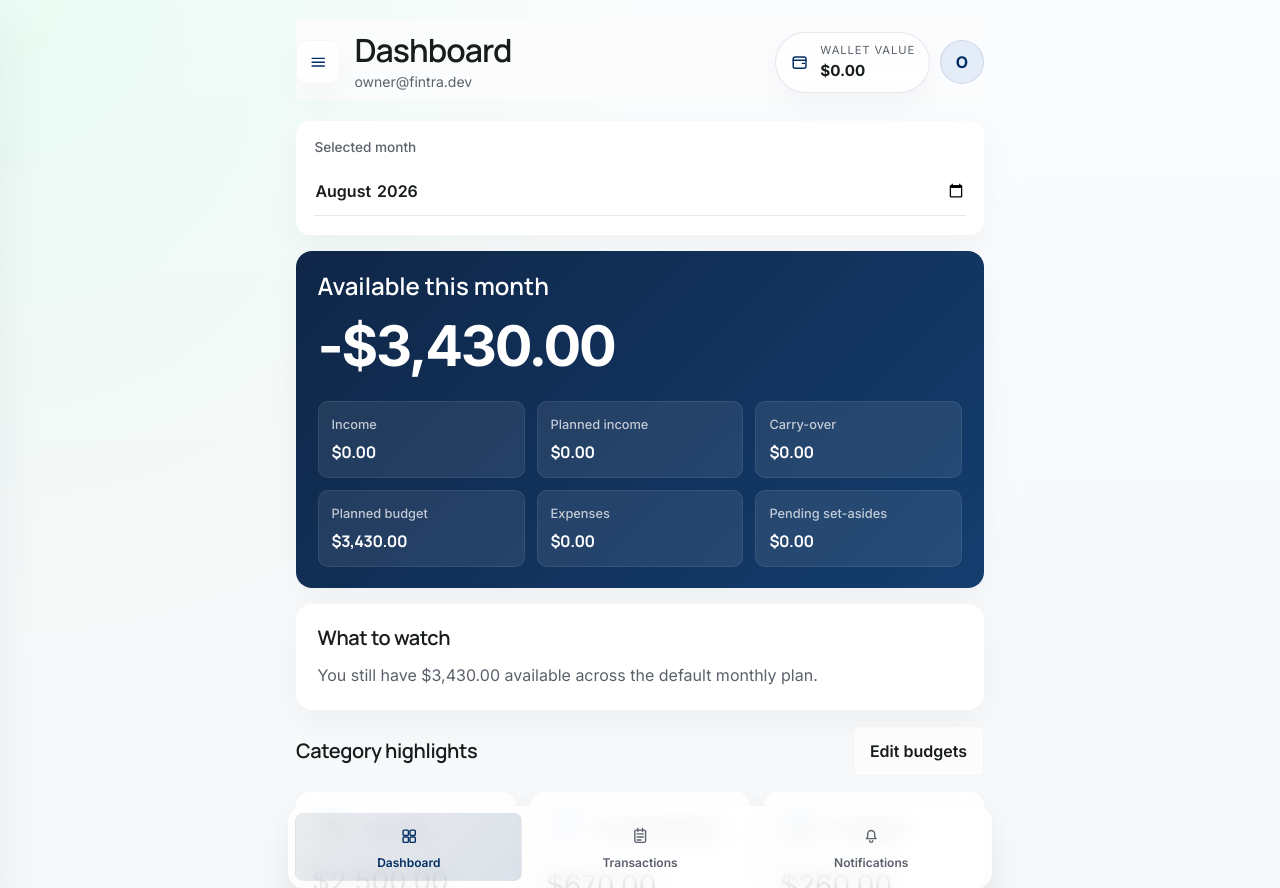
Test: DashboardPage › opens month-scoped transactions when a category highlight is clicked
Replace the text in the field labelled "Selected month" with "2026-03" at (640, 190), box x1=314 y1=164 x2=966 y2=216
(page scrolled)
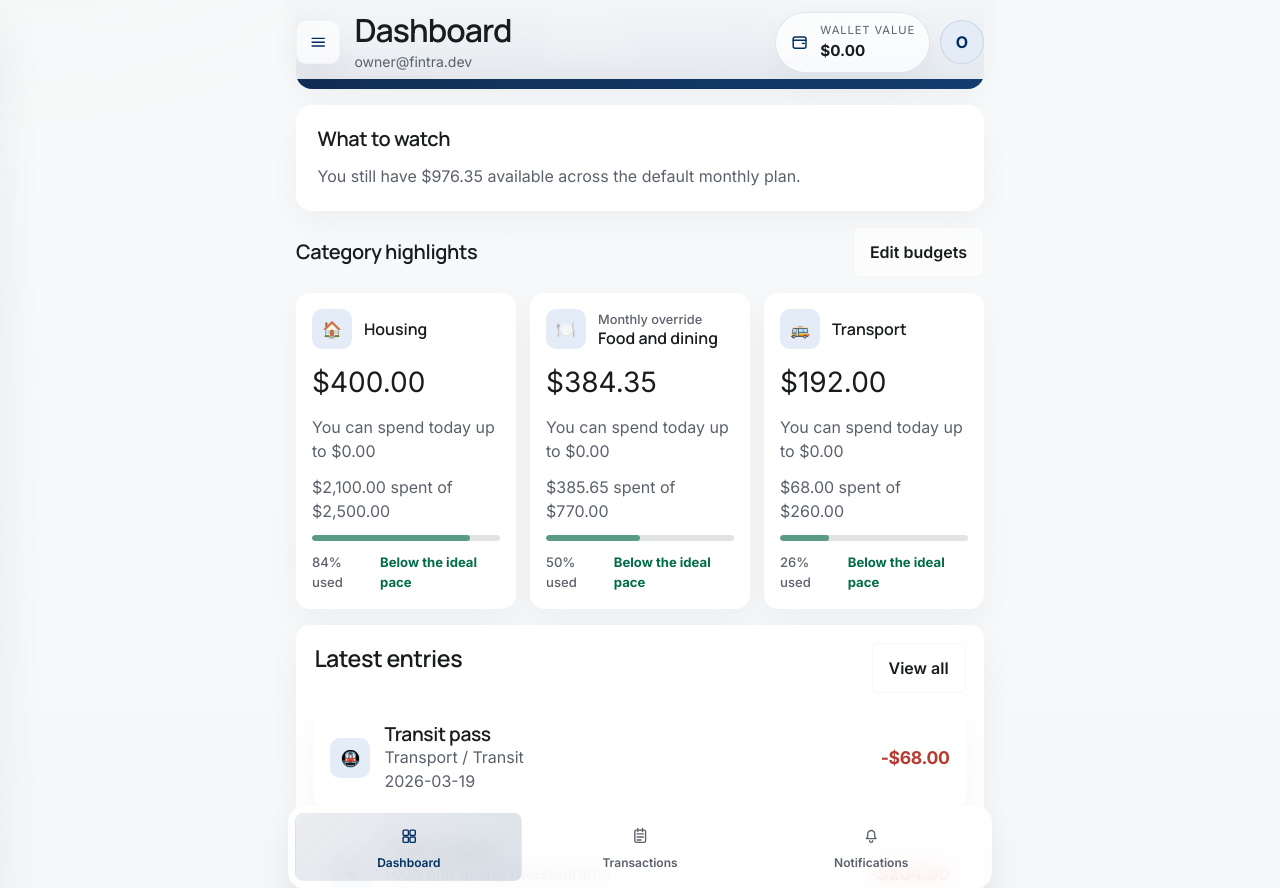
Click the button "Housing" at (406, 451), box x1=296 y1=293 x2=516 y2=609
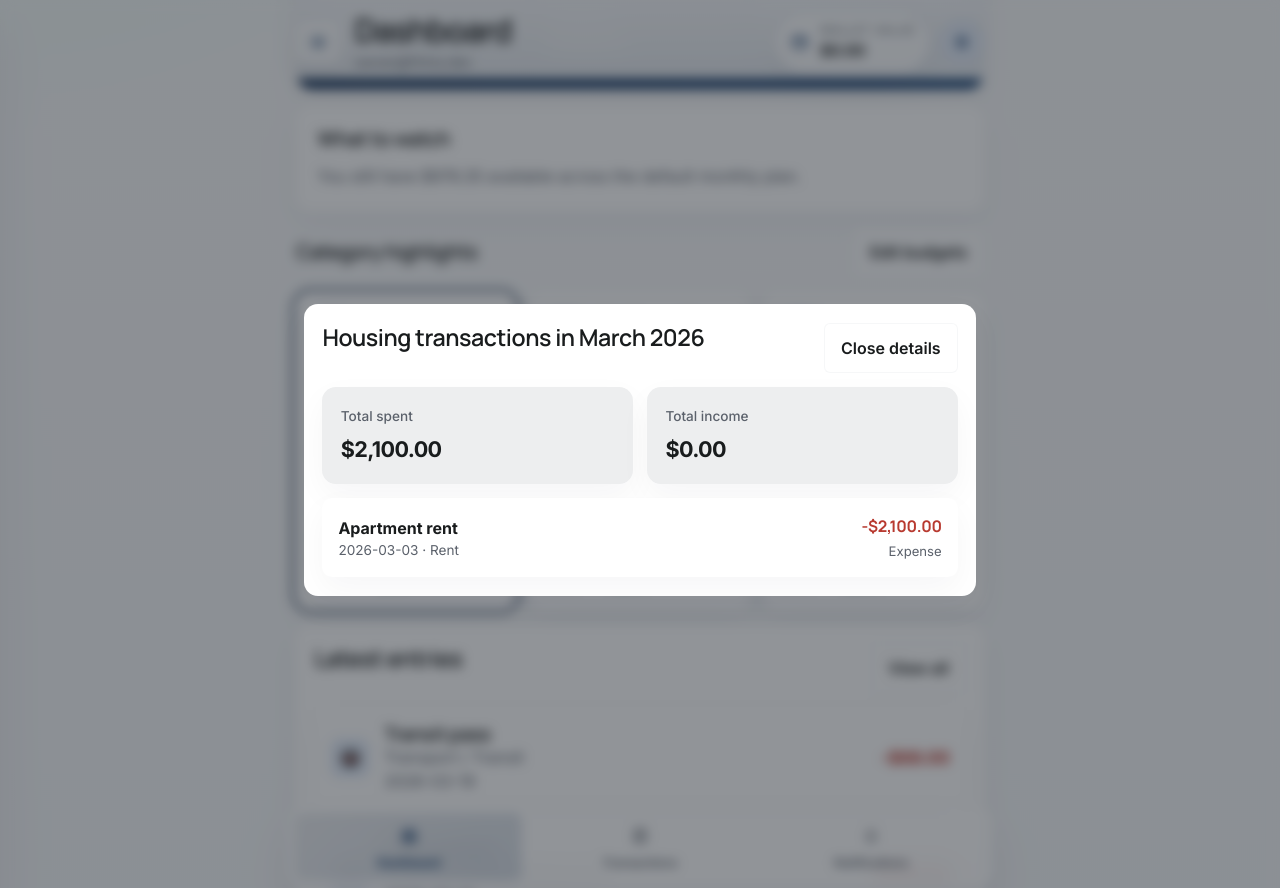
Check: the heading "Housing transactions in March 2026" is shown, box x1=322 y1=324 x2=704 y2=351
Check: the text "Apartment rent" is shown, box x1=338 y1=518 x2=458 y2=538
Check: the text "Total spent" is shown, box x1=341 y1=408 x2=413 y2=424
Click the button "Close details" at (891, 348), box x1=824 y1=323 x2=958 y2=373
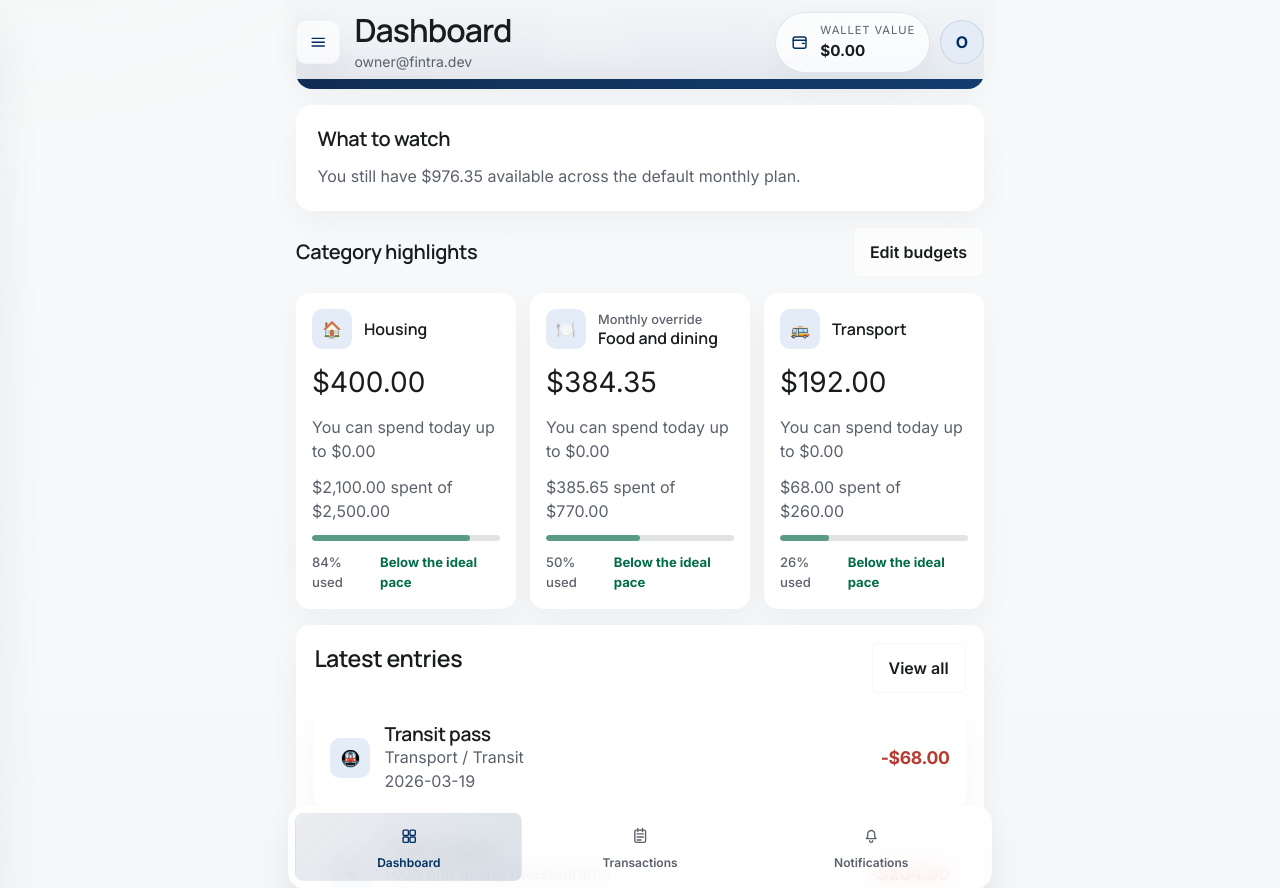
Check: the heading "Housing transactions in March 2026" is gone
